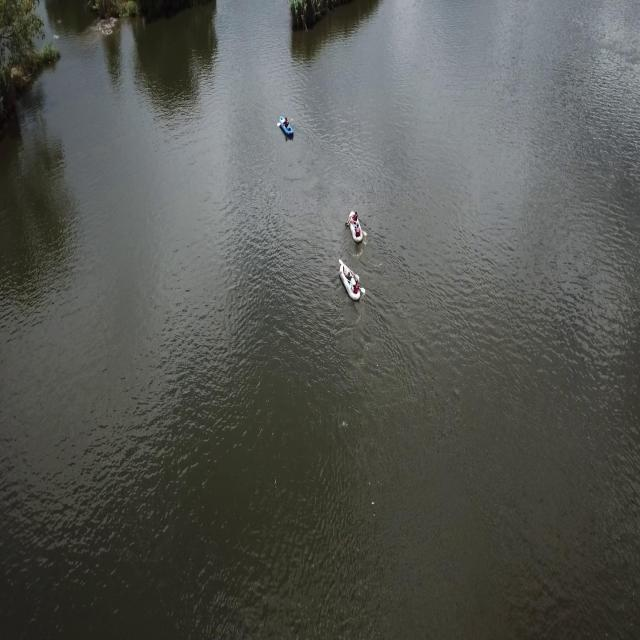kayak: (338, 255, 362, 306), (346, 208, 366, 248), (278, 112, 296, 142)
